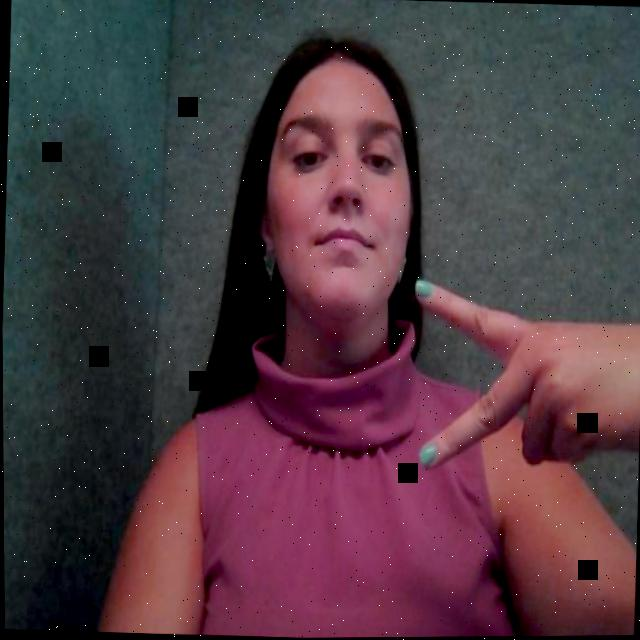Scissors: (353, 249, 640, 551)
